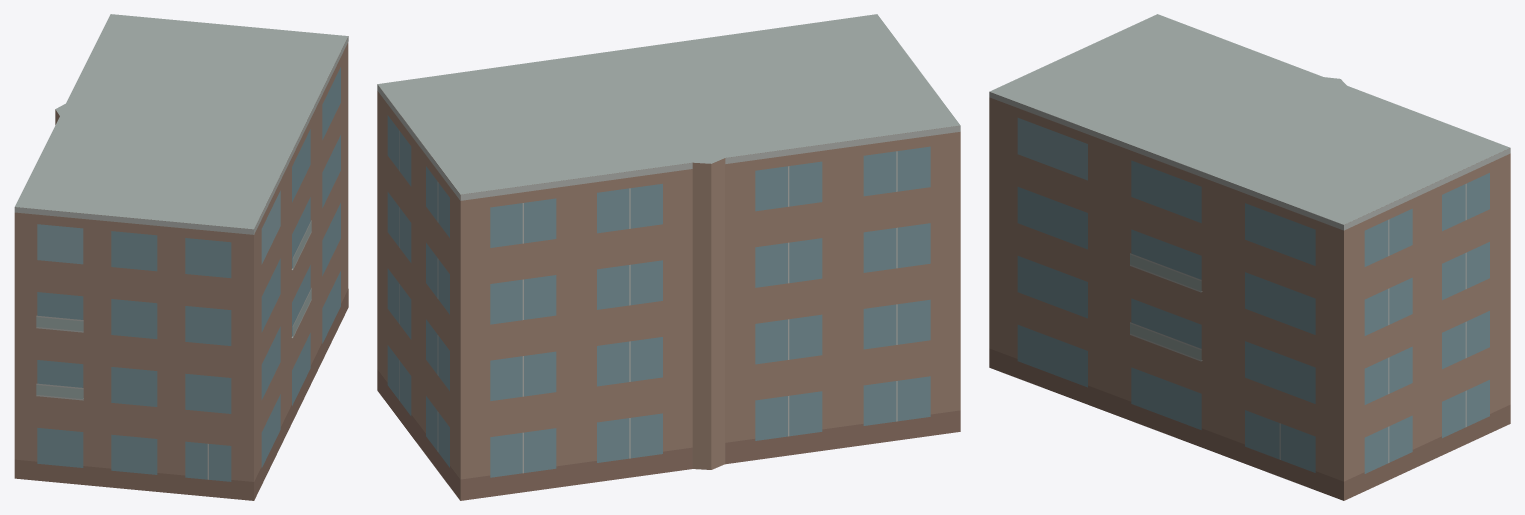
The model's file is survey-upis-32526014.glb.
The picture shows the model from 3 angles, left to right: view 1: azimuth 30°, elevation 25°; view 2: azimuth 150°, elevation 25°; view 3: azimuth 270°, elevation 25°; orthographic projection. The views are drawn at different scales.
Visible parts, largest first — view 1: survey-upis-32526014.tmp; view 2: survey-upis-32526014.tmp; view 3: survey-upis-32526014.tmp.
Boxes of the visible parts, <box> form: survey-upis-32526014.tmp: <box>14,14,348,500</box>; survey-upis-32526014.tmp: <box>377,14,960,500</box>; survey-upis-32526014.tmp: <box>989,14,1510,500</box>.
Size of the model in its own units: 19.56 by 11.93 by 20.42.
